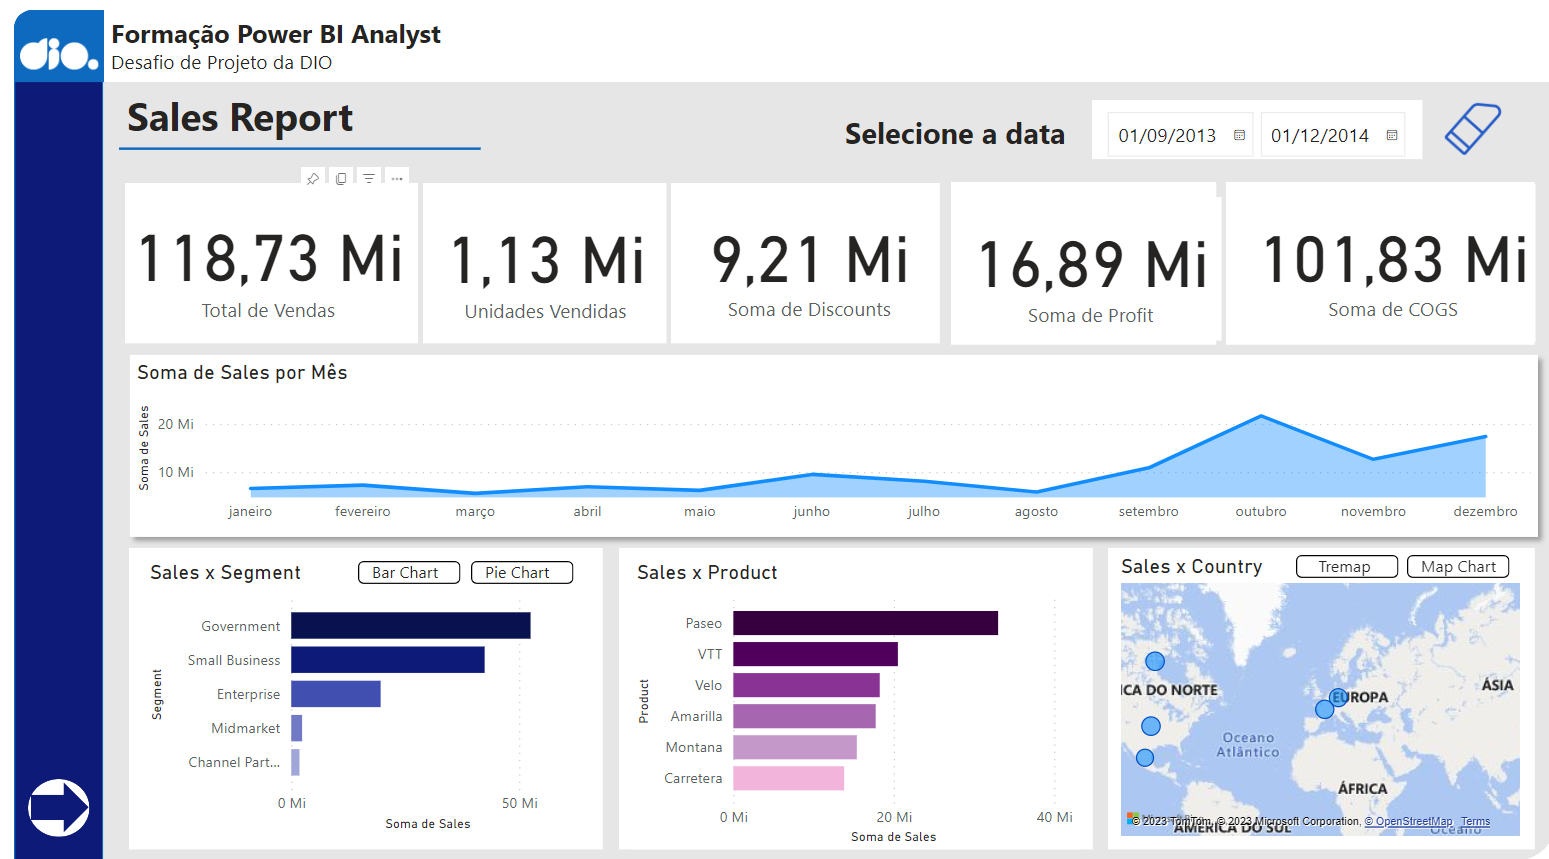

This screenshot's page, from the dashboard's own definition file:
{"tool":"powerbi","page":{"name":"Página 1","canvas":[1280,720],"ordinal":0},"visuals":[{"type":"shape","box":[0,14.3,1280,705.7],"z":0},{"type":"shape","box":[1184.4,84.7,56.5,56.5],"z":0,"group":"g4"},{"type":"shape","box":[92.2,157.8,242.8,133.4],"z":0,"group":"g1"},{"type":"map","title":"Sales x Country","fields":{"Category":["financials.Country"],"Size":["Sum(financials. Sales)"]},"box":[912.9,465.7,341.4,238.6],"z":0,"group":"g3"},{"type":"shape","box":[1063.3,465.9,85.3,18.8],"z":0,"group":"g6"},{"type":"shape","box":[1155.4,465.9,85.3,18.8],"z":0,"group":"g5"},{"type":"shape","box":[285,471,85.3,18.8],"z":0,"group":"g8"},{"type":"shape","box":[378.9,471,85.3,18.8],"z":0,"group":"g7"},{"type":"shape","box":[11.9,651.9,51.2,47.8],"z":0,"group":"g9"},{"type":"shape","box":[0,14.3,74.3,705.7],"z":1000},{"type":"image","box":[1178.8,81.9,62.1,60.7],"z":1000,"group":"g4"},{"type":"shape","box":[1005.8,157,255.5,134.8],"z":1000,"group":"g1"},{"type":"textbox","box":[1162.2,460.8,92.2,37.5],"z":1000,"group":"g5"},{"type":"textbox","box":[1057.7,461.1,92.2,37.5],"z":1000,"group":"g6"},{"type":"textbox","box":[291.8,465.9,92.2,37.5],"z":1000,"group":"g8"},{"type":"textbox","box":[385.7,465.9,92.2,37.5],"z":1000,"group":"g7"},{"type":"clusteredBarChart","title":"Sales x Segment","fields":{"Y":["Sum(financials. Sales)"],"Category":["financials.Segment"]},"box":[107.1,470,368.6,228.6],"z":1000,"group":"g2"},{"type":"shape","box":[14.7,654.6,48.4,42.5],"z":1000,"group":"g9"},{"type":"shape","box":[0,14.3,75.7,60],"z":2000},{"type":"shape","box":[777.1,157,220.2,134.8],"z":2000,"group":"g1"},{"type":"shape","box":[74.3,14.3,1205.7,60],"z":3000},{"type":"shape","box":[545.4,157.8,223,133.4],"z":3000,"group":"g1"},{"type":"textbox","box":[75.1,13.7,1186.1,61.4],"z":4000},{"type":"shape","box":[339.5,157.8,201.9,133.4],"z":4000,"group":"g1"},{"type":"textbox","box":[88.6,74.3,237.1,55.7],"z":6000},{"type":"shape","box":[87.1,121.4,300,15.7],"z":7000},{"type":"image","box":[0,26.8,74.8,48],"z":7250},{"type":"group","id":"g1","title":"Cartões","box":[92.2,157,1169.1,134.8],"z":7500},{"type":"shape","box":[87.1,291.4,1185.7,168.6],"z":8000},{"type":"shape","box":[95.7,460,392.9,250],"z":9000},{"type":"shape","box":[907.1,460,354.3,250],"z":10000},{"type":"shape","box":[501.4,460,392.9,250],"z":11000},{"type":"card","fields":{"Values":["Sum(financials. Sales)"]},"box":[92.9,164.3,235.7,118.6],"z":12000},{"type":"card","fields":{"Values":["Sum(financials.Units Sold)"]},"box":[345.7,161.4,190,125.7],"z":13000},{"type":"card","fields":{"Values":["Sum(financials.Discounts)"]},"box":[552.9,168.6,212.9,111.4],"z":14000},{"type":"card","fields":{"Values":["Sum(financials.COGS)"]},"box":[1025.7,158.6,235.7,131.4],"z":15000},{"type":"clusteredBarChart","title":"Sales x Product","fields":{"Y":["Sum(financials. Sales)"],"Category":["financials.Product"]},"box":[511.4,470,371.4,240],"z":16000},{"type":"slicer","fields":{"Values":["financials.Date"]},"box":[894.3,88.6,274.3,48.6],"z":17000},{"type":"textbox","box":[684.3,94.3,210,42.9],"z":18000},{"type":"stackedAreaChart","fields":{"Y":["Sum(financials. Sales)"],"Category":["financials.Date.Variation.Hierarquia de datas.Mês"]},"box":[97.1,304.3,1165.7,142.9],"z":19000},{"type":"card","fields":{"Values":["Sum(financials.Profit)"]},"box":[785.1,169,216.7,119.5],"z":20000},{"type":"group","id":"g2","title":"Grupo 1","box":[96.7,461.2,380.2,238.5],"z":21000},{"type":"group","id":"g3","title":"Grupo 2","box":[912.9,465.7,341.4,244.3],"z":23000},{"type":"group","id":"g4","title":"Grupo 3","box":[1178.8,81.9,62.1,60.7],"z":24000},{"type":"group","id":"g5","title":"botão map chart","box":[1155.4,460.8,99,37.5],"z":25000},{"type":"group","id":"g6","title":"botão tremap","box":[1057.7,461.1,92.2,37.5],"z":26000},{"type":"group","id":"g7","title":"botão pie chart","box":[378.9,465.9,99,37.5],"z":27000},{"type":"group","id":"g8","title":"botão bar chart","box":[285,465.9,99,37.5],"z":28000},{"type":"group","id":"g9","title":"Grupo 4","box":[11.9,651.9,51.2,47.8],"z":29002}]}

Visuals, with their boxes in screenshot pixels (x1, y1, x2, y2), scaled from the page's 1280x720 canvas onto the 1549x859 screenshot:
shape: rect(0, 17, 1548, 858)
shape: rect(1433, 101, 1502, 168)
shape: rect(112, 188, 405, 347)
"Sales x Country" map: rect(1105, 556, 1518, 840)
shape: rect(1287, 556, 1390, 578)
shape: rect(1398, 556, 1501, 578)
shape: rect(345, 562, 448, 584)
shape: rect(459, 562, 562, 584)
shape: rect(14, 778, 76, 835)
shape: rect(0, 17, 90, 858)
image: rect(1427, 98, 1502, 170)
shape: rect(1217, 187, 1526, 348)
textbox: rect(1406, 550, 1518, 594)
textbox: rect(1280, 550, 1392, 595)
textbox: rect(353, 556, 465, 601)
textbox: rect(467, 556, 578, 601)
"Sales x Segment" clusteredBarChart: rect(130, 561, 576, 833)
shape: rect(18, 781, 76, 832)
shape: rect(0, 17, 92, 89)
shape: rect(940, 187, 1207, 348)
shape: rect(90, 17, 1548, 89)
shape: rect(660, 188, 930, 347)
textbox: rect(91, 16, 1526, 90)
shape: rect(411, 188, 655, 347)
textbox: rect(107, 89, 394, 155)
shape: rect(105, 145, 468, 164)
image: rect(0, 32, 91, 89)
"Cartões" group: rect(112, 187, 1526, 348)
shape: rect(105, 348, 1540, 549)
shape: rect(116, 549, 591, 847)
shape: rect(1098, 549, 1526, 847)
shape: rect(607, 549, 1082, 847)
card - Sum(financials. Sales): rect(112, 196, 398, 338)
card - Sum(financials.Units Sold): rect(418, 193, 648, 343)
card - Sum(financials.Discounts): rect(669, 201, 927, 334)
card - Sum(financials.COGS): rect(1241, 189, 1526, 346)
"Sales x Product" clusteredBarChart: rect(619, 561, 1068, 847)
slicer - financials.Date: rect(1082, 106, 1414, 164)
textbox: rect(828, 113, 1082, 164)
stackedAreaChart - Sum(financials. Sales) x financials.Date.Variation.Hierarquia de datas.Mês: rect(118, 363, 1528, 534)
card - Sum(financials.Profit): rect(950, 202, 1212, 344)
"Grupo 1" group: rect(117, 550, 577, 835)
"Grupo 2" group: rect(1105, 556, 1518, 847)
"Grupo 3" group: rect(1427, 98, 1502, 170)
"botão map chart" group: rect(1398, 550, 1518, 594)
"botão tremap" group: rect(1280, 550, 1392, 595)
"botão pie chart" group: rect(459, 556, 578, 601)
"botão bar chart" group: rect(345, 556, 465, 601)
"Grupo 4" group: rect(14, 778, 76, 835)
